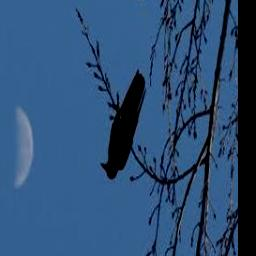Crow: (100, 68, 146, 181)
